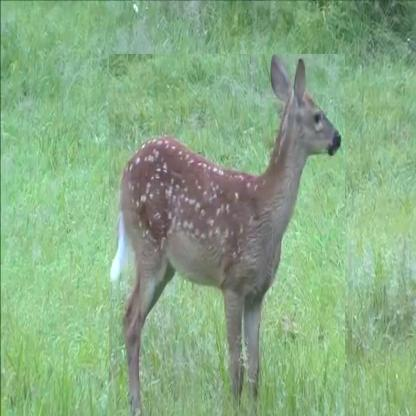Deer: (108, 54, 344, 416)
